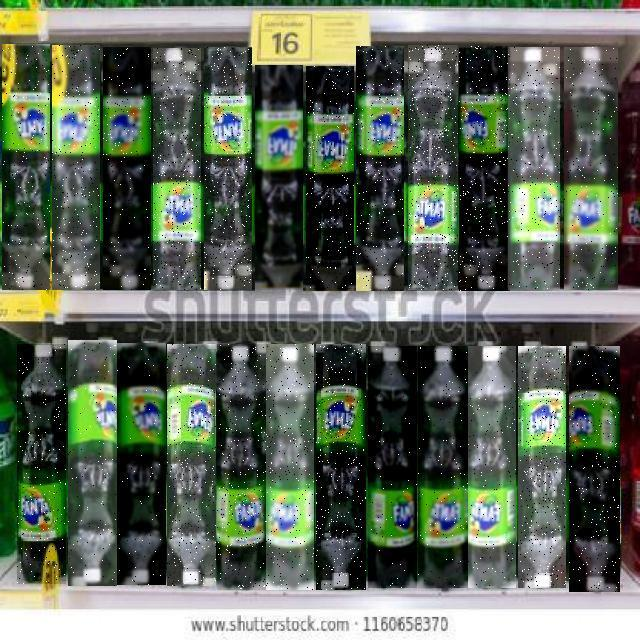Drinks: (564, 47, 618, 290), (508, 47, 560, 290), (569, 346, 620, 592), (459, 46, 510, 291), (316, 344, 366, 590), (408, 45, 458, 290), (418, 347, 468, 589), (68, 340, 117, 586), (217, 344, 266, 590), (117, 343, 166, 585), (167, 345, 216, 587), (368, 347, 417, 589), (266, 344, 314, 590), (2, 44, 50, 290), (356, 46, 404, 291), (17, 344, 66, 584), (52, 45, 100, 290), (205, 47, 253, 290), (103, 47, 151, 290), (469, 347, 517, 589), (519, 346, 567, 588), (153, 48, 201, 290), (255, 66, 303, 292), (306, 66, 354, 291)
